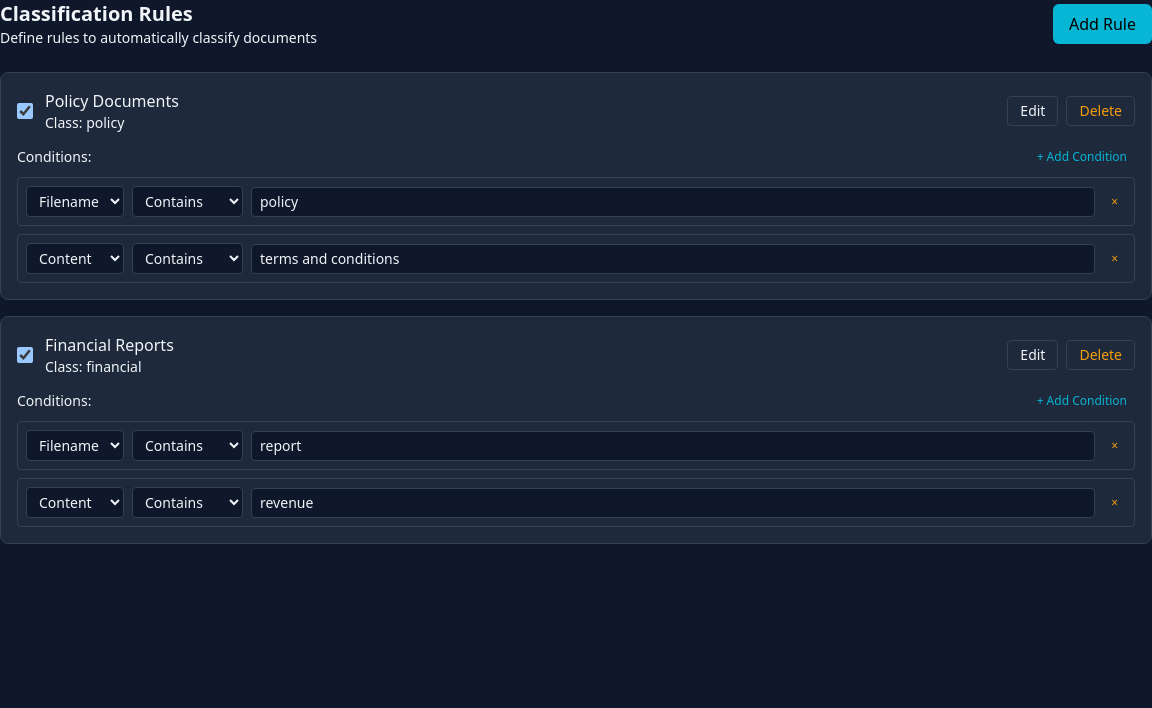
Test: RulesBuilder › validates required fields in add form
Click the button "Add Rule" at (1102, 24), box x1=1053 y1=4 x2=1151 y2=44
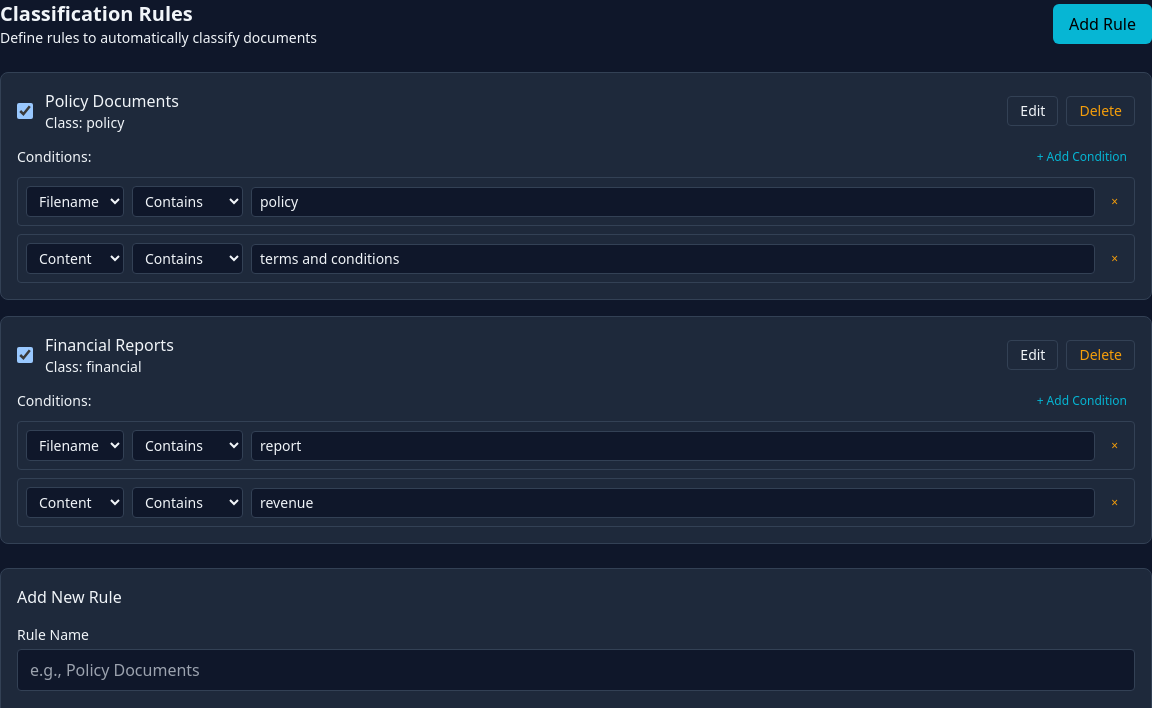
Check: the heading "Add New Rule" is shown, box x1=17 y1=586 x2=122 y2=608
